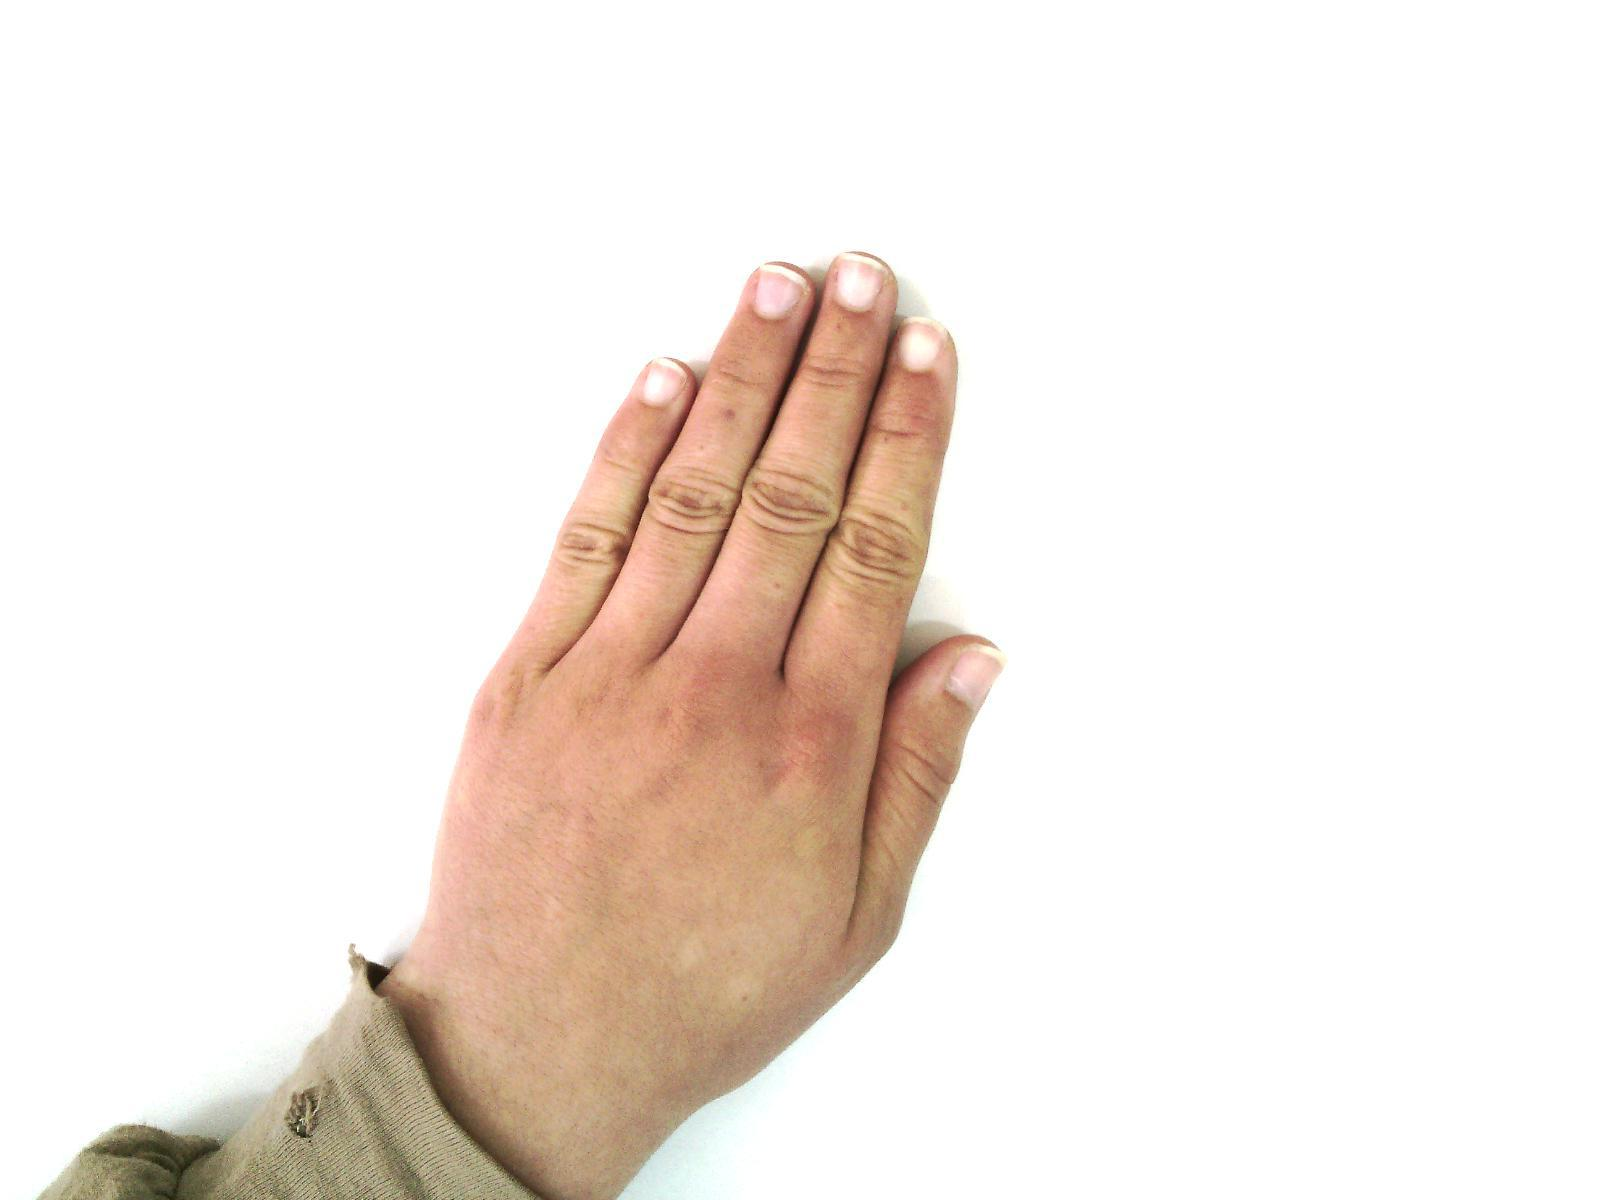hand: (449, 246, 1015, 1137)
